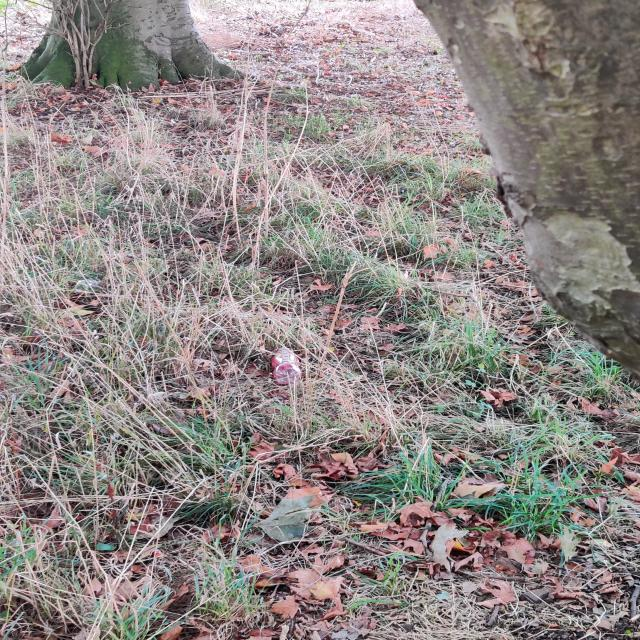litter: (269, 344, 307, 383)
